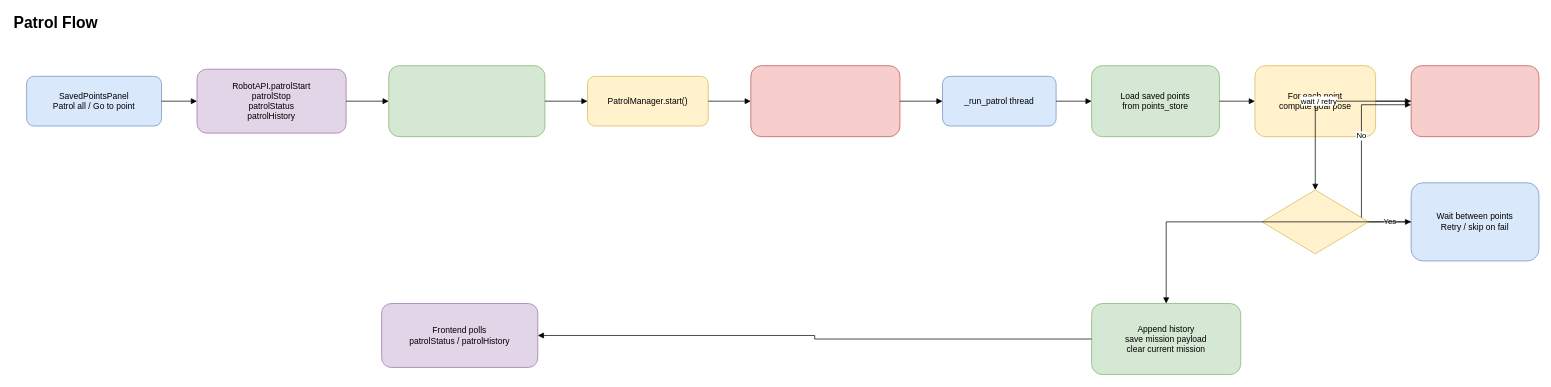
Some shapes in this 1551 by 387 pixel diagram are drawn without their labels. Each missing label, with the centre of its shape:
Backend API views /patrol/start/ /patrol/stop/ /patrol/status/ /patrol/history/: (466,101)
Create mission Set current mission Start patrol thread: (825,101)
Reached?: (1315,221)
ROSClient.set_goal_pose() to SLAM/navigation service: (1474,101)
